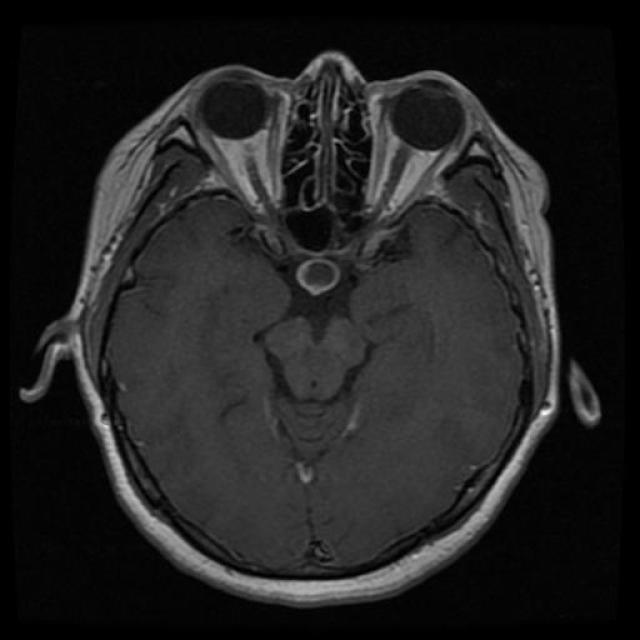pituitary: (290, 254, 344, 306)
